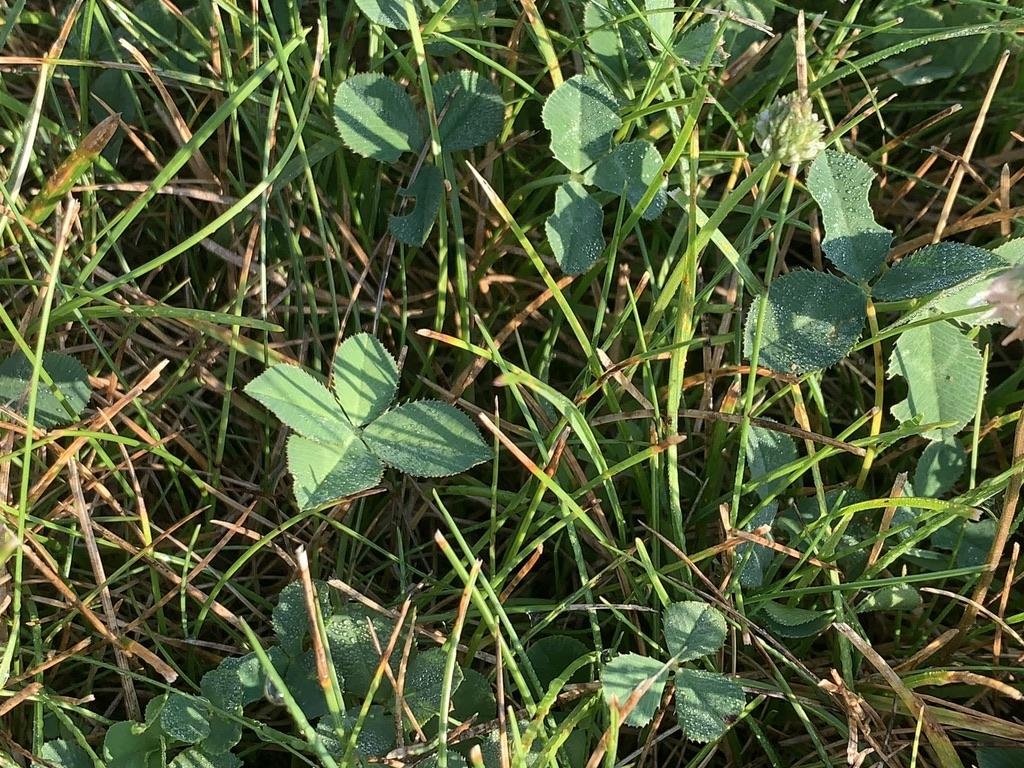4-Leaf-Clovers: (445, 400, 679, 578)
